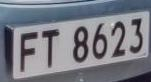2: (109, 18, 129, 57)
3: (126, 15, 147, 54)
6: (90, 19, 108, 59)
8: (69, 22, 92, 67)
F: (17, 26, 41, 77)
T: (39, 27, 63, 72)
